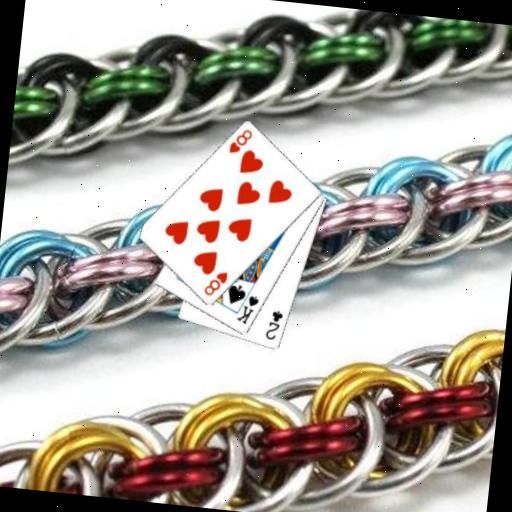2C: (263, 306, 285, 342)
8H: (201, 267, 230, 300), (226, 125, 255, 157)
KS: (234, 291, 262, 327)
